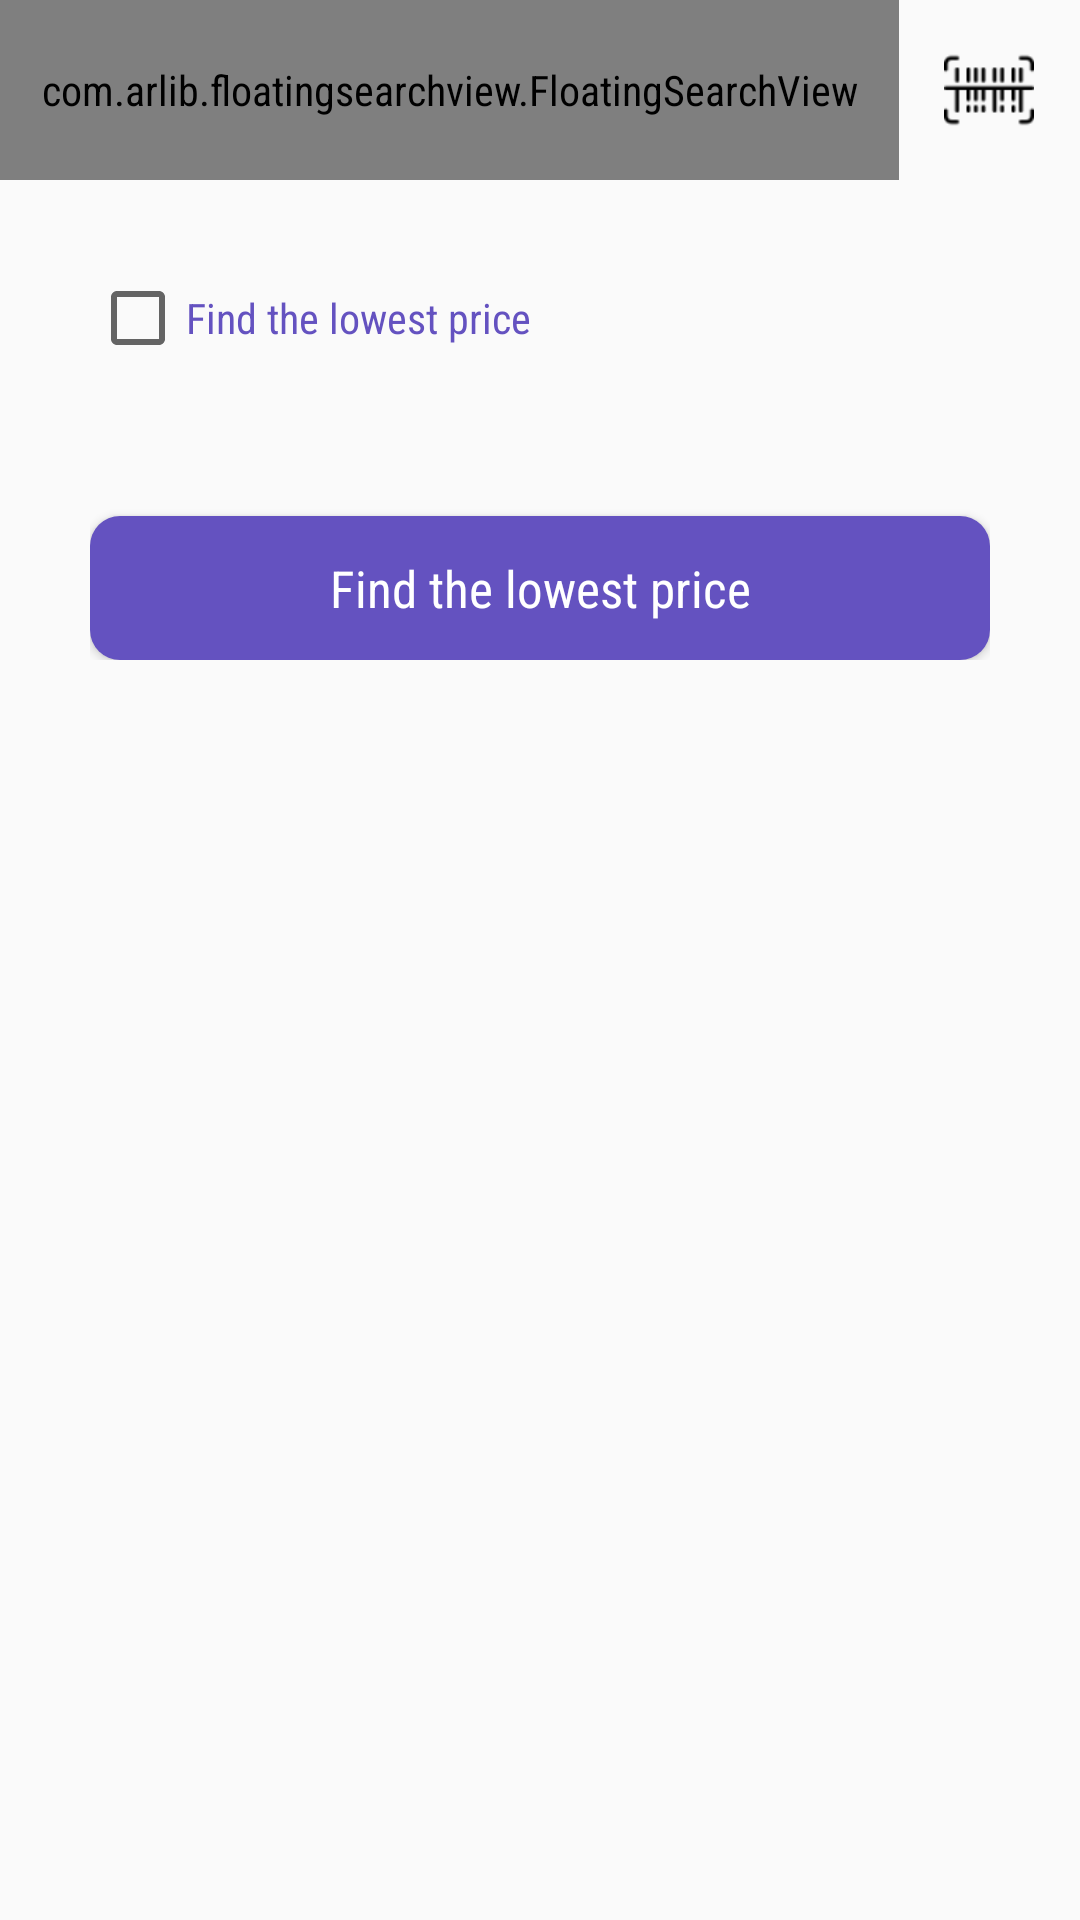

Icons on this 1080×1920 Android screen, each with its box as rect(x1, y1, x2, y2):
barcode: rect(944, 55, 1034, 125)
